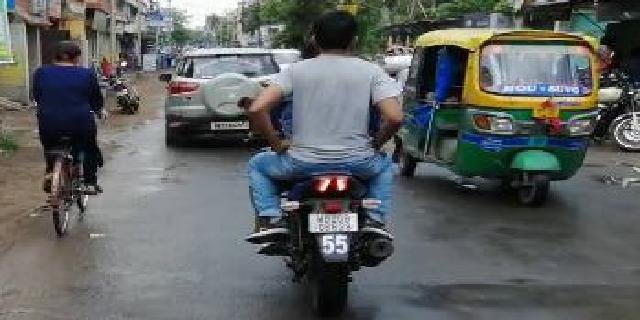Autorickshaw: (399, 29, 606, 206)
Car: (167, 40, 285, 151)
Cycle: (38, 32, 118, 253)
Motorbike: (268, 12, 402, 320)
